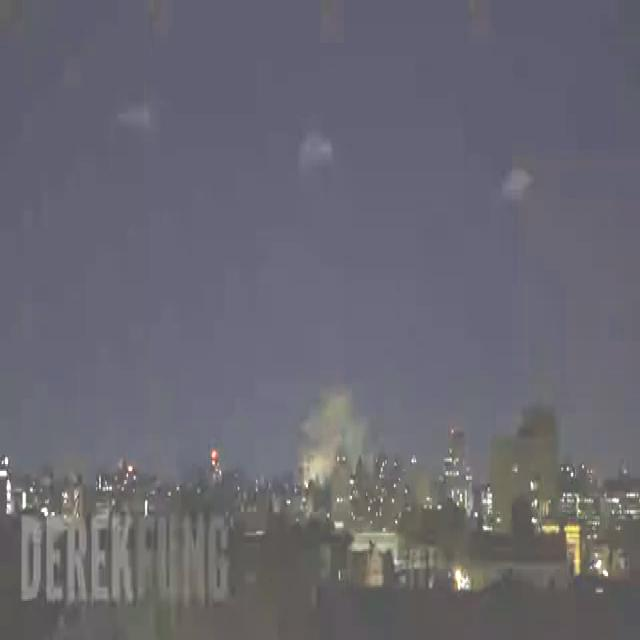smoke: (299, 388, 367, 519)
